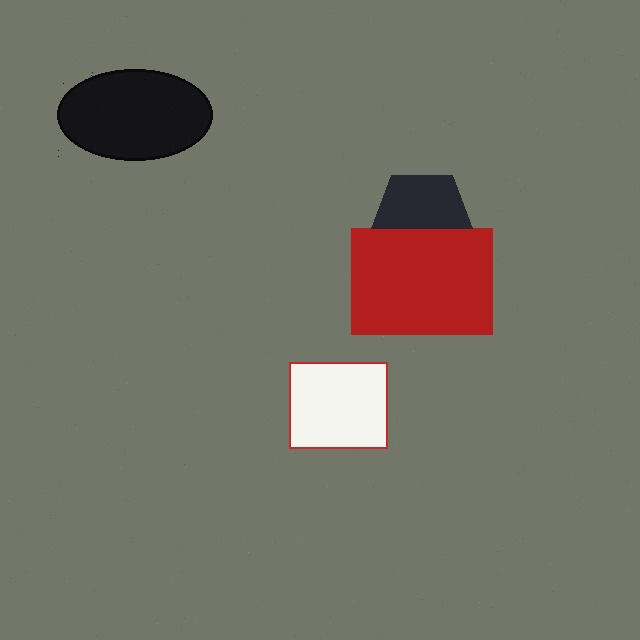book: (289, 362, 387, 448)
pothole: (57, 69, 212, 160)
vehicle: (351, 175, 492, 334)
